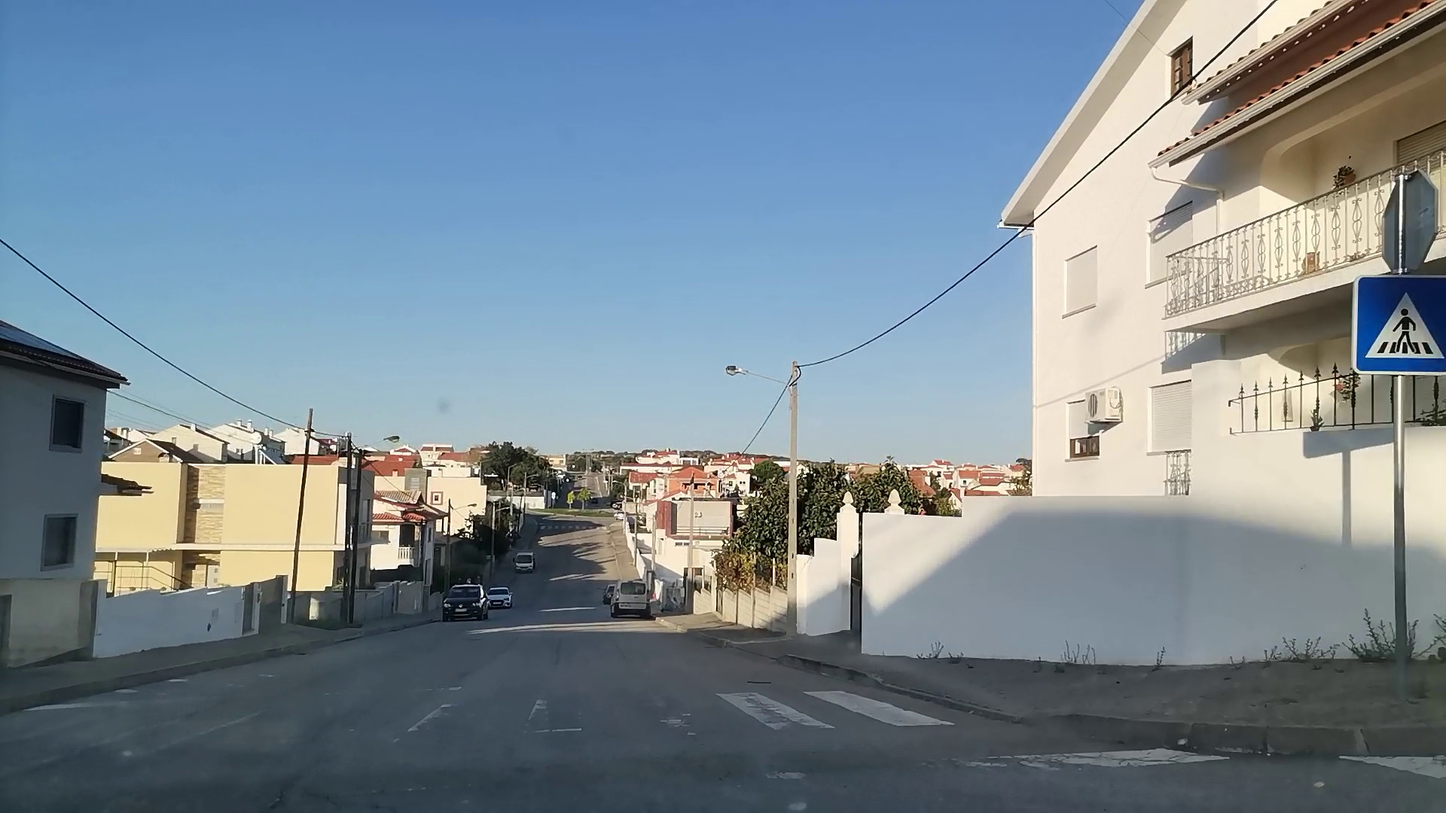Stairs: (0, 679, 956, 754)
